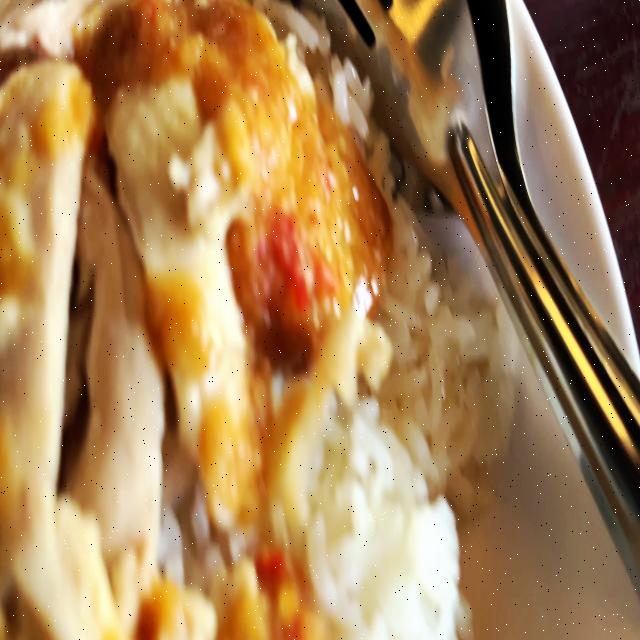boiled_chicken: (0, 0, 361, 640)
chicken_rice: (0, 0, 511, 640)
